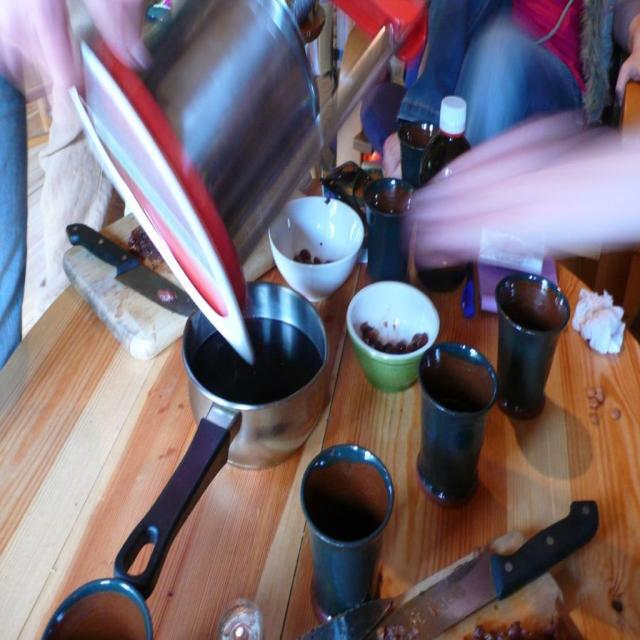Knife: (66, 224, 196, 316)
